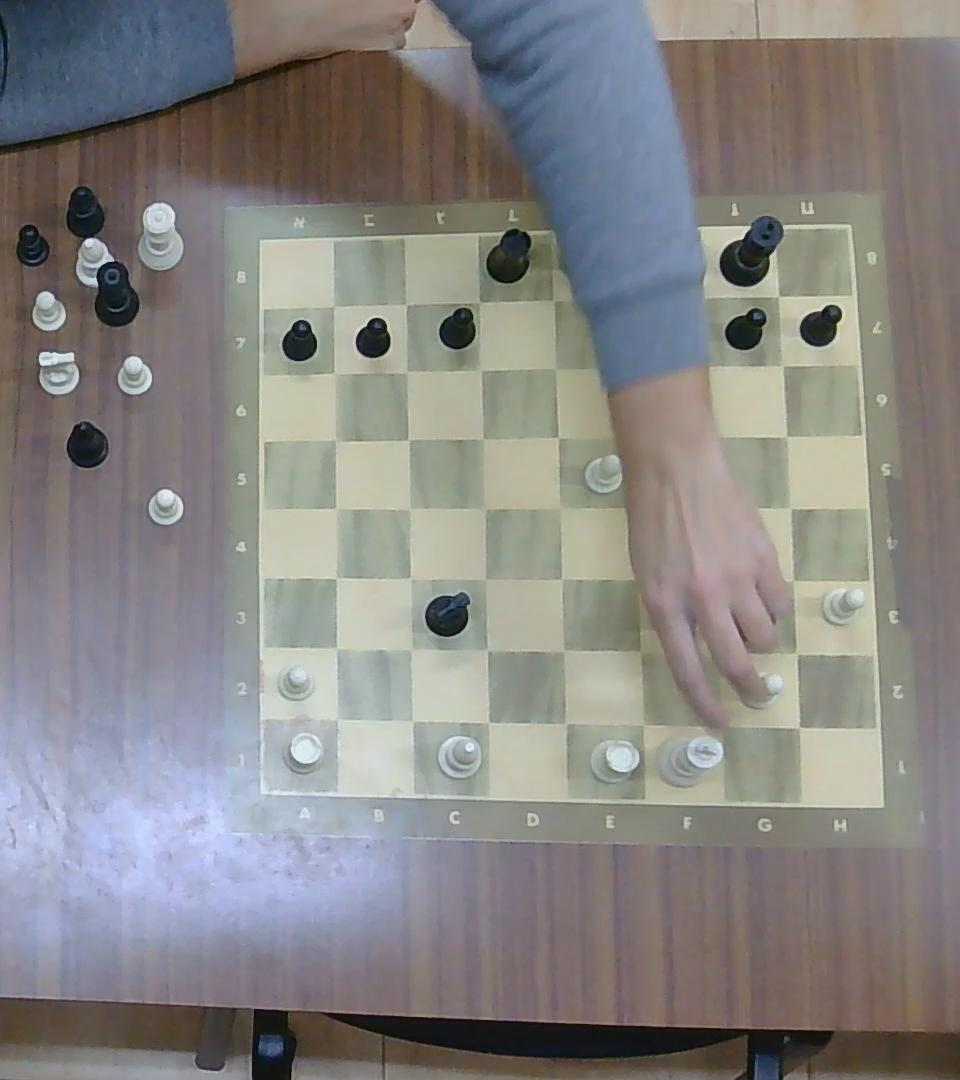xcorner: (626, 707, 658, 740), (548, 705, 579, 739), (783, 711, 814, 743), (471, 704, 502, 736), (320, 701, 351, 733), (781, 637, 812, 669), (703, 709, 734, 741), (620, 491, 651, 523), (469, 563, 500, 594), (396, 705, 427, 735), (470, 634, 501, 664), (625, 636, 656, 666), (548, 634, 578, 665), (394, 634, 425, 664), (703, 563, 733, 594), (701, 492, 731, 523), (548, 563, 577, 594), (688, 281, 717, 312), (703, 636, 732, 666), (321, 633, 350, 662), (321, 562, 350, 591), (321, 493, 350, 522), (620, 564, 649, 593), (777, 566, 806, 594), (543, 353, 571, 382), (395, 564, 423, 592), (470, 494, 499, 521), (546, 493, 573, 522), (777, 494, 806, 521), (395, 494, 423, 521), (393, 425, 421, 452), (467, 423, 495, 450), (611, 284, 637, 313), (690, 352, 717, 379), (611, 423, 637, 450), (612, 354, 638, 381), (320, 360, 348, 385), (541, 287, 567, 313), (393, 358, 419, 383), (322, 426, 348, 451), (467, 355, 493, 380), (546, 424, 571, 449), (466, 289, 491, 314), (393, 291, 418, 315), (773, 423, 798, 447), (766, 283, 791, 307), (703, 423, 728, 447), (771, 352, 795, 376), (322, 293, 345, 317)
